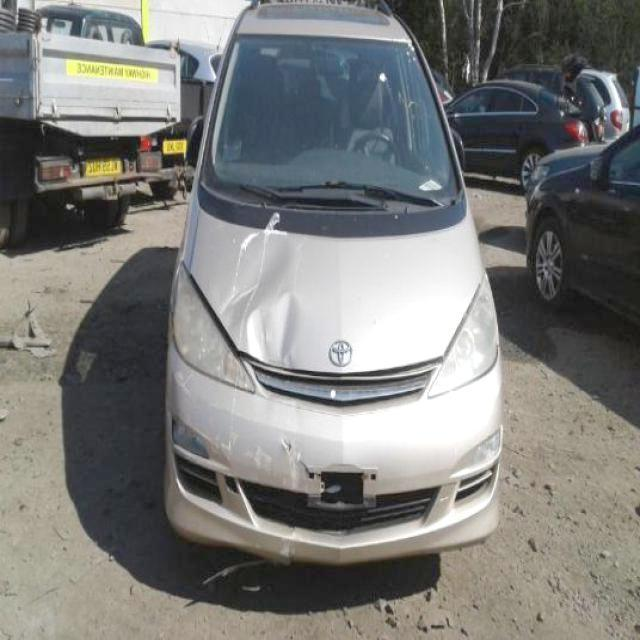minor: (165, 211, 335, 519)
